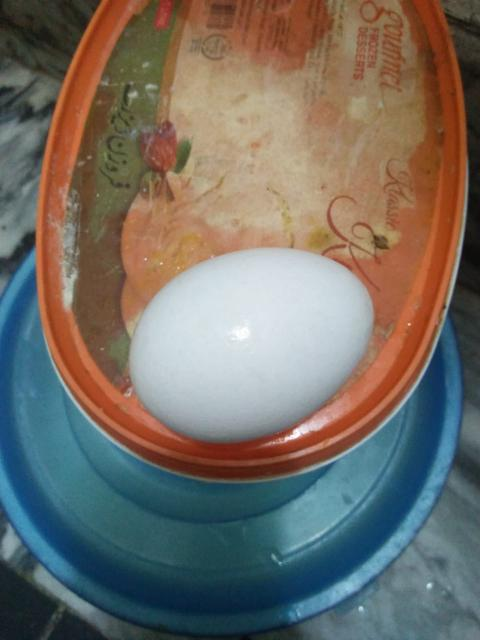Sano: (127, 245, 375, 443)
